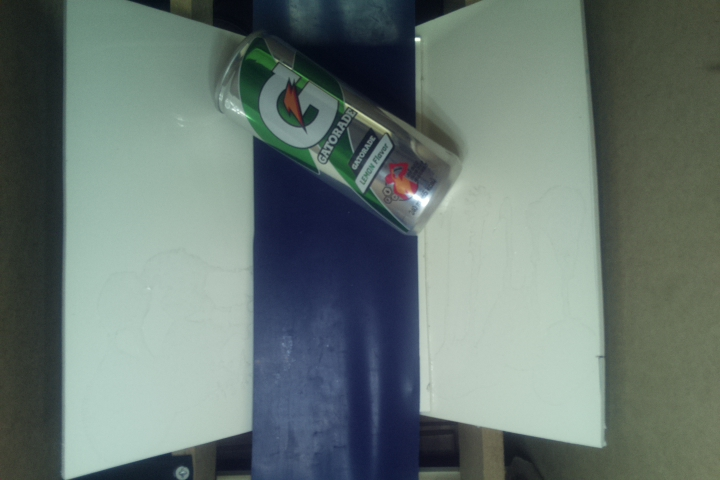can: (213, 30, 465, 236)
